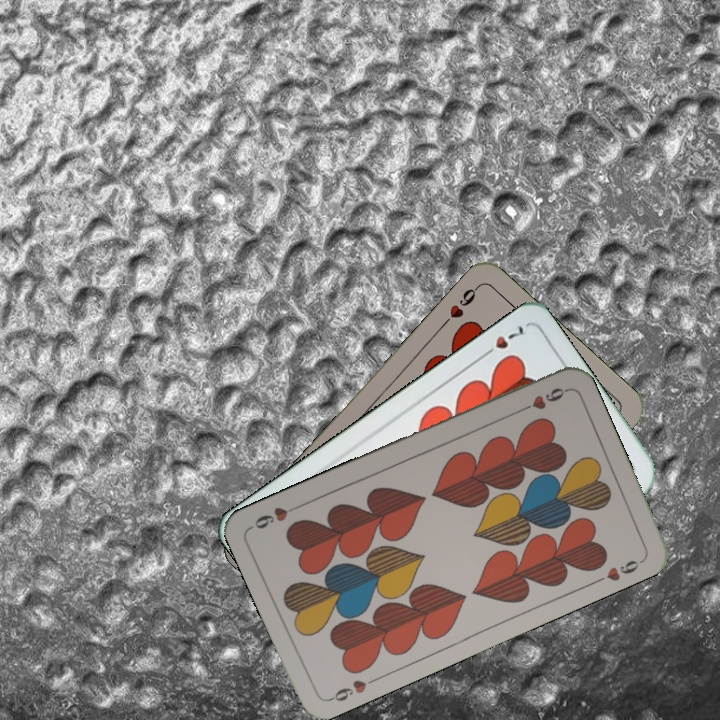H7: (476, 321, 527, 361)
H9: (437, 281, 482, 329), (514, 383, 570, 416), (324, 673, 380, 704)
